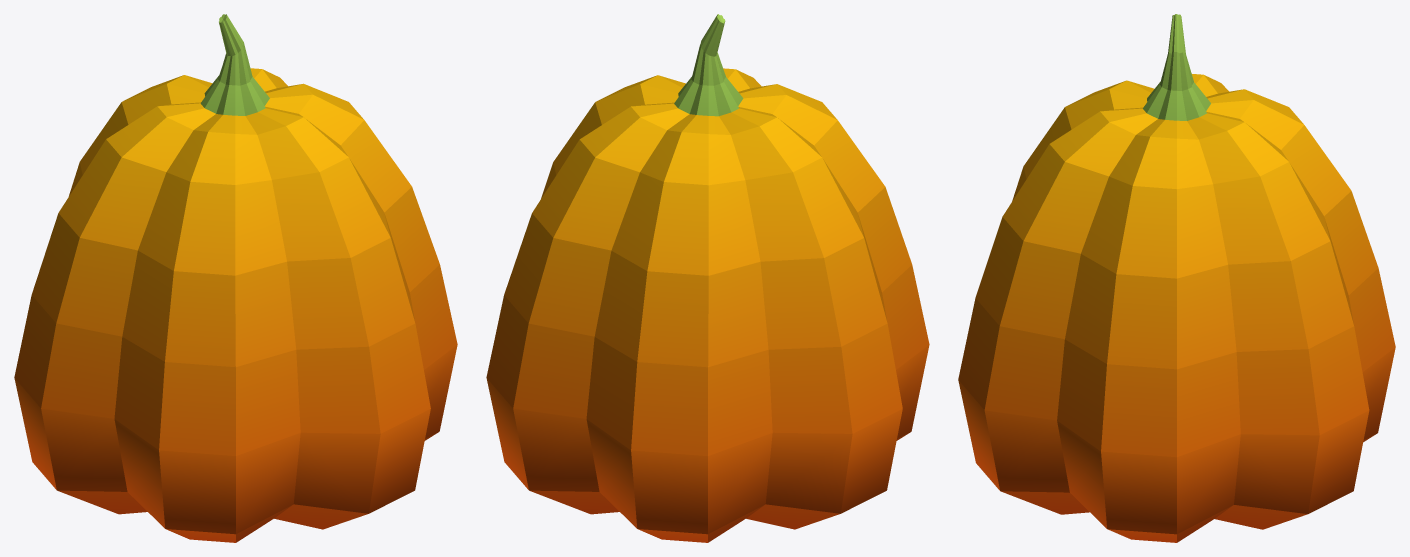
Rendered from pumpkin 3.fbx.
The picture shows the model from 3 angles, left to right: view 1: azimuth 30°, elevation 25°; view 2: azimuth 150°, elevation 25°; view 3: azimuth 270°, elevation 25°; orthographic projection.
Parts seen in each view (by area): view 1: pumpkin 3; view 2: pumpkin 3; view 3: pumpkin 3.
Part boxes in pixels (x1,y1,x2,y2): pumpkin 3: (14, 14, 457, 542); pumpkin 3: (486, 14, 929, 542); pumpkin 3: (958, 14, 1395, 542).
Size of the model in its own units: 46.39 by 53.91 by 45.69.
